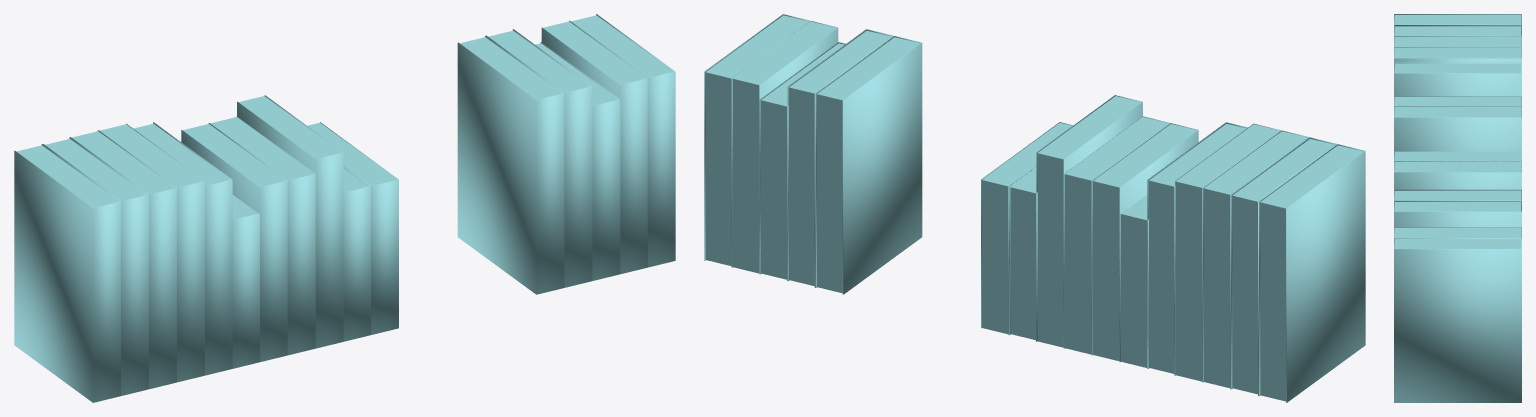
Rendered from Libros 4.fbx.
3 views of the same model, side by side, from view 1: azimuth 30°, elevation 25°; view 2: azimuth 150°, elevation 25°; view 3: azimuth 270°, elevation 25° (orthographic). The views are drawn at different scales.
Parts seen in each view (by area): view 1: Books 4; view 2: Books 4; view 3: Books 4.
Boxes of the visible parts, <box> form: Books 4: <box>14,14,675,402</box>; Books 4: <box>704,14,1365,402</box>; Books 4: <box>1394,14,1521,402</box>.
Size of the model in its own units: 94 by 30 by 22.
